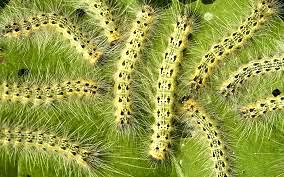Caterpillar: (145, 12, 196, 164), (192, 0, 275, 85), (0, 12, 109, 70), (112, 5, 156, 138), (0, 123, 108, 177), (179, 94, 234, 177), (0, 75, 106, 113), (221, 57, 284, 98), (64, 0, 120, 46), (239, 92, 284, 128)
